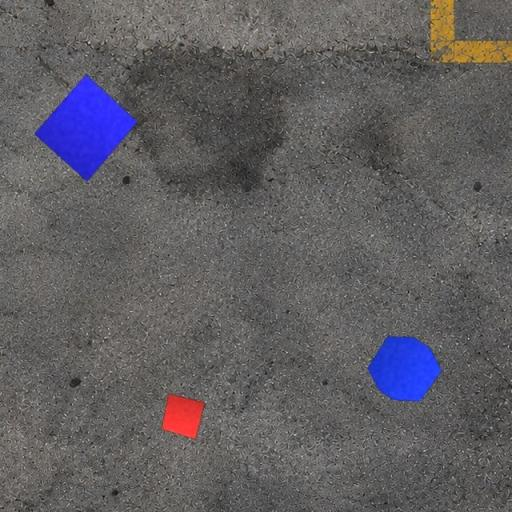BLUE_SQUARE: (34, 74, 138, 182)
RED_SQUARE: (160, 393, 206, 440)
